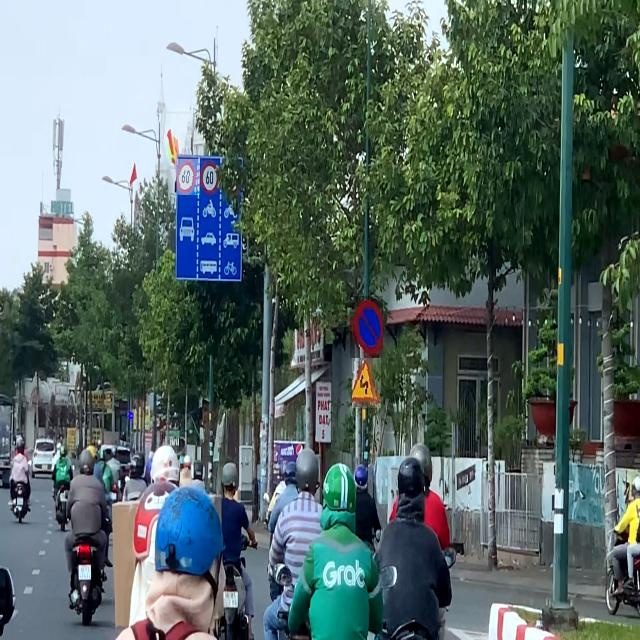bien_cam: (350, 296, 383, 358), (352, 356, 381, 408), (177, 159, 200, 195)
